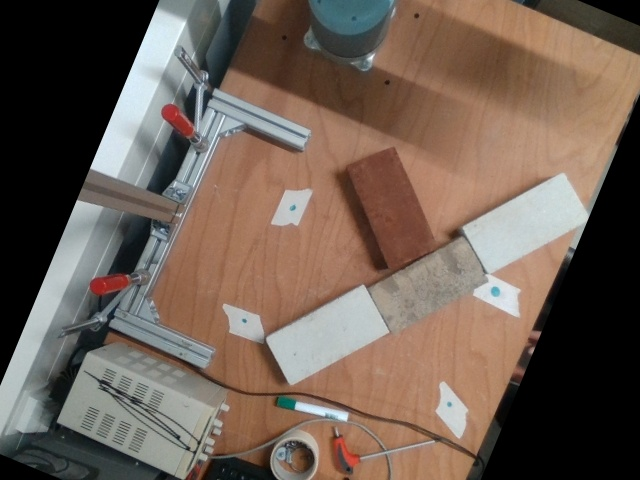brick: (463, 172, 589, 274), (370, 237, 489, 332), (268, 289, 387, 382), (349, 148, 437, 267)
